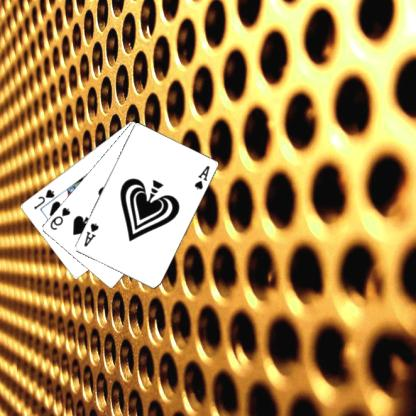6S: (49, 205, 74, 231)
AS: (83, 220, 102, 248), (193, 163, 212, 191)
JS: (32, 186, 58, 210)
